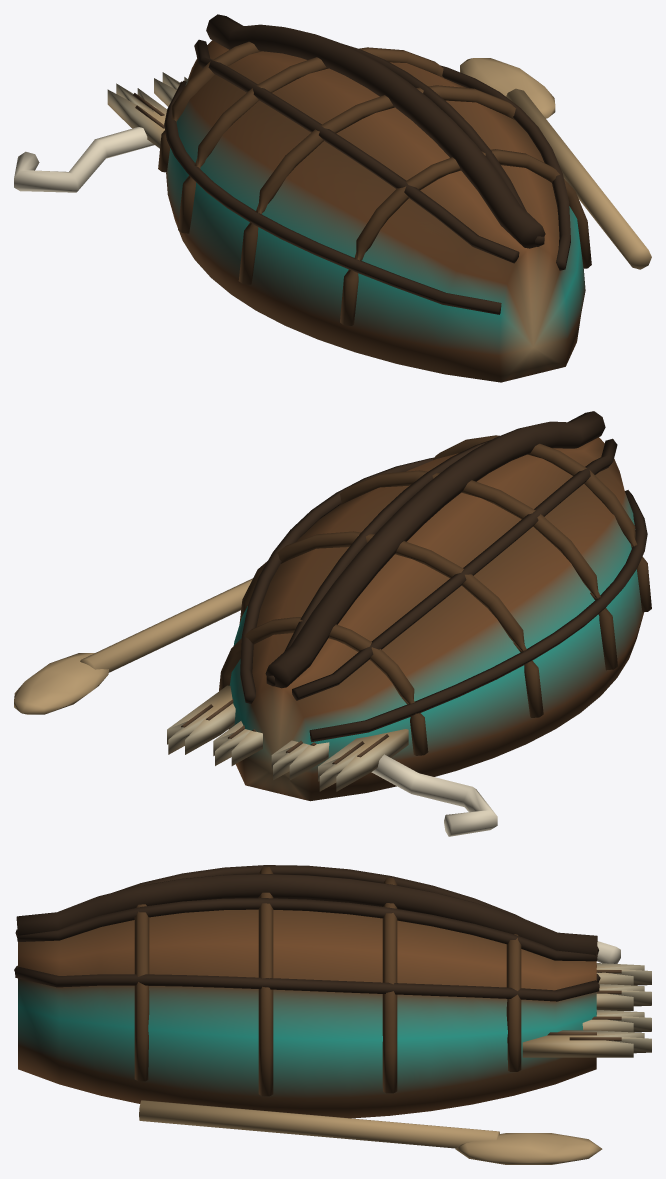
The model's file is deco-bote-hundido.glb.
The picture shows the model from 3 angles, top to bottom: view 1: azimuth 30°, elevation 25°; view 2: azimuth 150°, elevation 25°; view 3: azimuth 270°, elevation 25°; orthographic projection. The views are drawn at different scales.
Visible parts, largest first — view 1: Hull, Oar, Rope; view 2: Hull, Oar, Rope; view 3: Hull, Oar, Rope.
Part boxes in pixels (x1,y1,x2,y2): Hull: (107,14,591,382); Oar: (460,58,651,269); Rope: (14,127,154,192); Hull: (167,411,651,801); Oar: (14,578,252,714); Rope: (371,754,497,836); Hull: (14,865,651,1118); Oar: (139,1100,602,1164); Rope: (597,941,620,963).
Size of the model in its own units: 0.822 by 0.3121 by 1.
